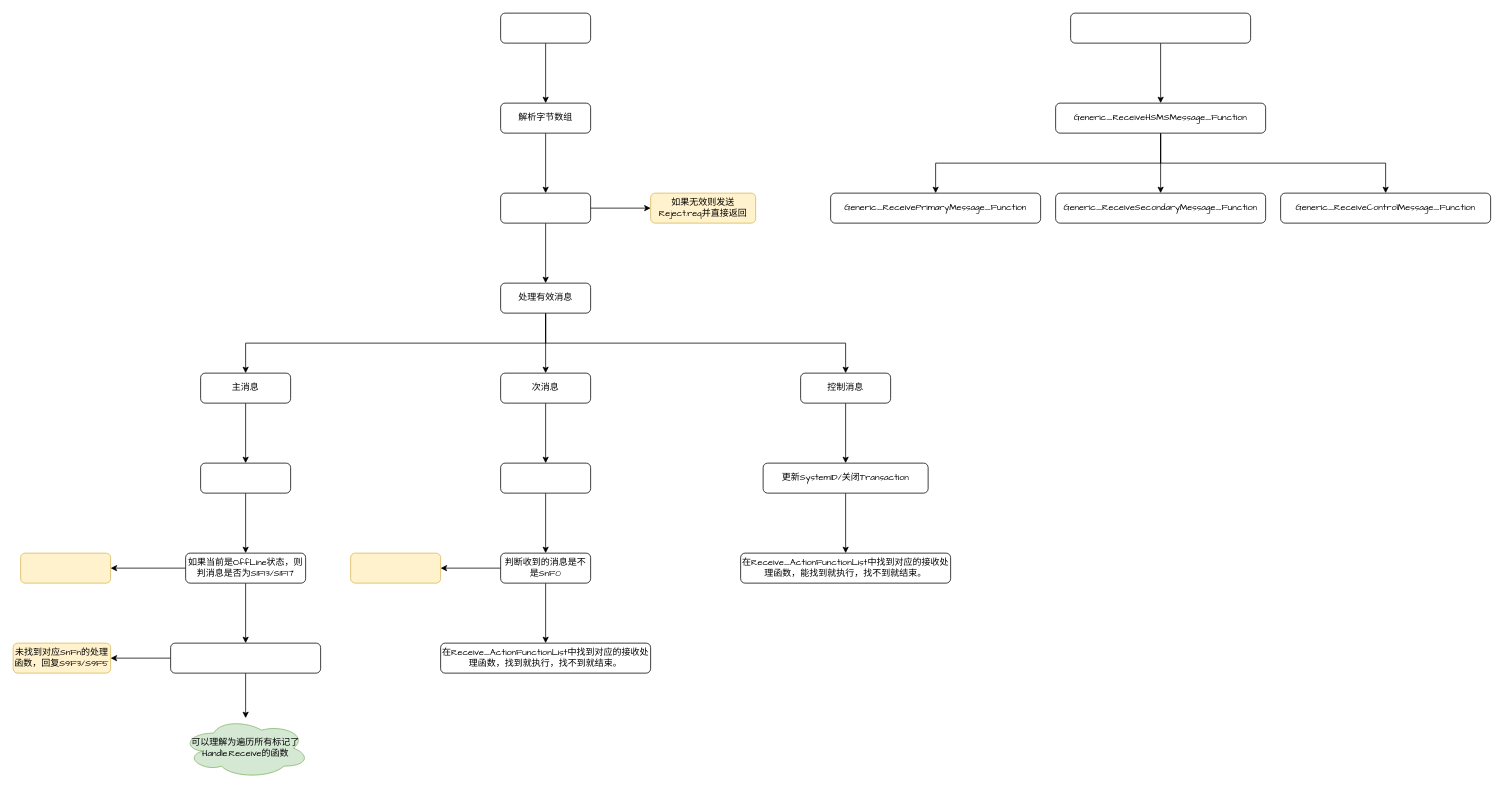
The diagram is 1504 pixels wide and 791 high, and some of its shapes have lost their labels. The centre of each missing label's shape, as x and y in pixels:
"ReceiveCallbackFunction" goes at (1160,27).
"socket接收字节数组" goes at (545,27).
"关闭Transaction" goes at (545,477).
"判断消息是否有效" goes at (545,207).
"在Receive_ActionFunctionList中找到对应的接收处理函数" goes at (245,657).
"是SnF0给出提示，直接返回" goes at (395,567).
"更新SystemID" goes at (245,477).
"非S1F13/S1F17回复SnF0" goes at (65,567).
